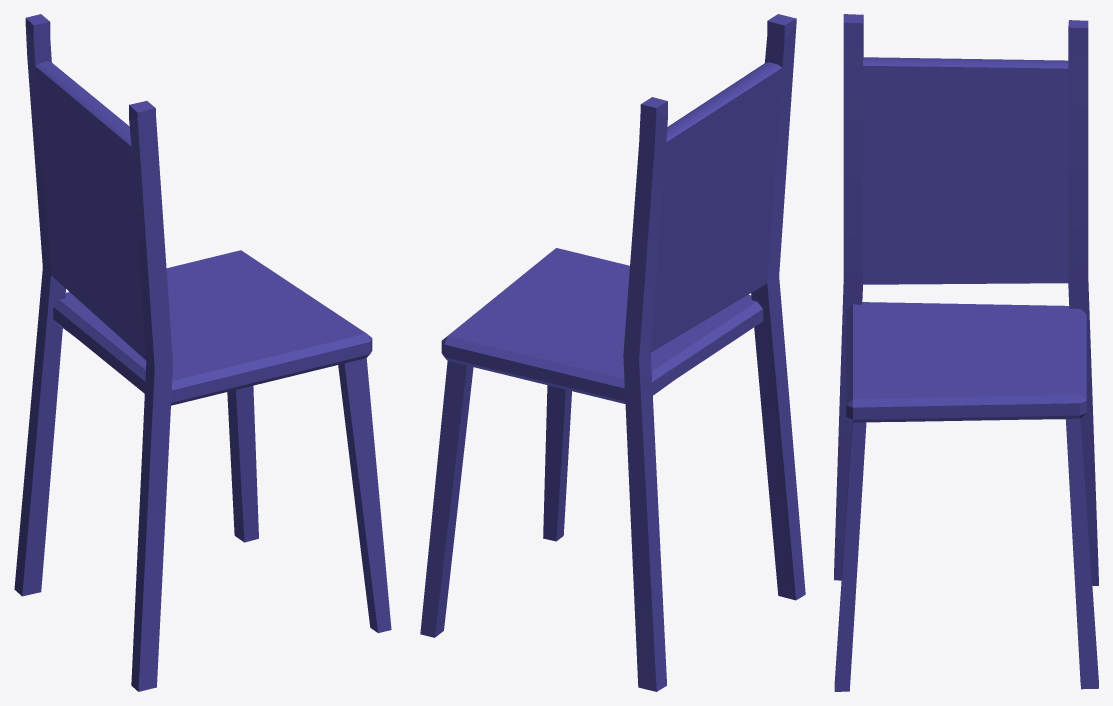
File: SetoRegularChair.fbx
3 renders of one model, left to right at view 1: azimuth 30°, elevation 25°; view 2: azimuth 150°, elevation 25°; view 3: azimuth 270°, elevation 25°, orthographic. The views are drawn at different scales.
Parts seen in each view (by area): view 1: RegularChair; view 2: RegularChair; view 3: RegularChair.
Boxes of the visible parts, left/top/right/bottom form: RegularChair: left=14, top=14, right=391, bottom=691; RegularChair: left=420, top=14, right=805, bottom=691; RegularChair: left=834, top=14, right=1098, bottom=691.
Bounding box in the file's own units: 63.04 × 137 × 58.63.
